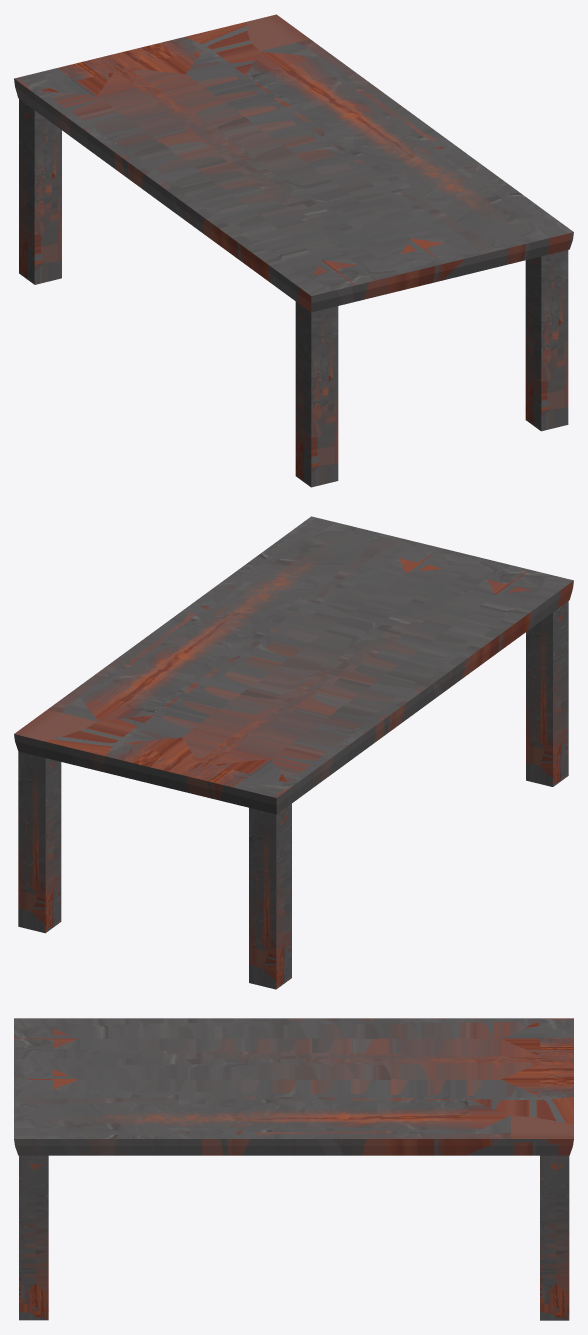
Rendered from TableTextured.fbx.
3 views of the same model, one above another, from view 1: azimuth 30°, elevation 25°; view 2: azimuth 150°, elevation 25°; view 3: azimuth 270°, elevation 25° (orthographic). The views are drawn at different scales.
Parts seen in each view (by area): view 1: Cube.001, Cube.004, Cube.003, Cube; view 2: Cube.001, Cube.002, Cube, Cube.004; view 3: Cube.001, Cube.003, Cube.002.
Boxes of the visible parts, left/top/right/bottom form: Cube.001: left=14, top=14, right=573, bottom=312; Cube.004: left=295, top=301, right=338, bottom=487; Cube.003: left=525, top=250, right=568, bottom=431; Cube: left=19, top=99, right=61, bottom=284; Cube.001: left=14, top=516, right=573, bottom=814; Cube.002: left=18, top=751, right=61, bottom=933; Cube: left=249, top=803, right=291, bottom=989; Cube.004: left=526, top=601, right=568, bottom=786; Cube.001: left=14, top=1018, right=573, bottom=1155; Cube.003: left=19, top=1155, right=48, bottom=1320; Cube.002: left=540, top=1155, right=569, bottom=1320.
Bounding box in the file's own units: 660 × 466 × 1295.
